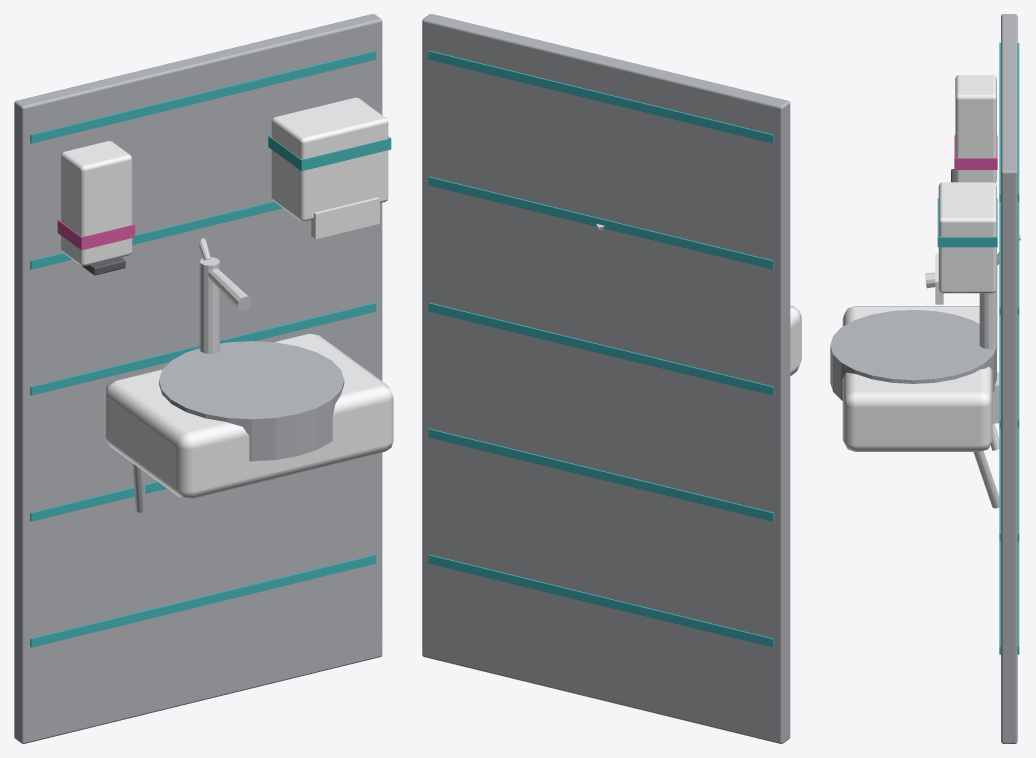
The model's file is tattoo-and-piercing-studio-hand-wash-basin-ea08fbac__34542.glb.
3 views of the same model, side by side, from view 1: azimuth 30°, elevation 25°; view 2: azimuth 150°, elevation 25°; view 3: azimuth 270°, elevation 25° (orthographic). The views are drawn at different scales.
Parts seen in each view (by area): view 1: hand-wash-basin; view 2: hand-wash-basin; view 3: hand-wash-basin.
Part boxes in pixels (left/top/right/bottom): hand-wash-basin: left=14, top=14, right=393, bottom=743; hand-wash-basin: left=422, top=14, right=801, bottom=743; hand-wash-basin: left=830, top=14, right=1021, bottom=743.
Bounding box in the file's own units: 0.9 × 1.52 × 0.4596.
